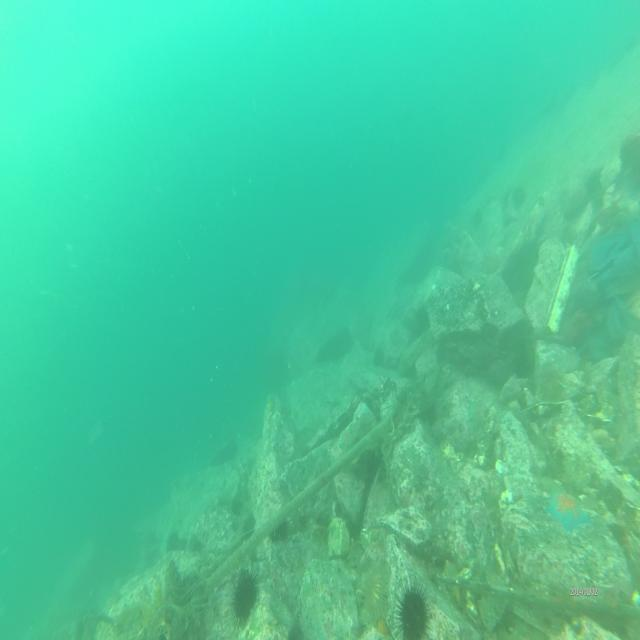echinus: (392, 578, 432, 640), (359, 557, 391, 620), (227, 565, 260, 623)
starfish: (544, 484, 592, 536)
